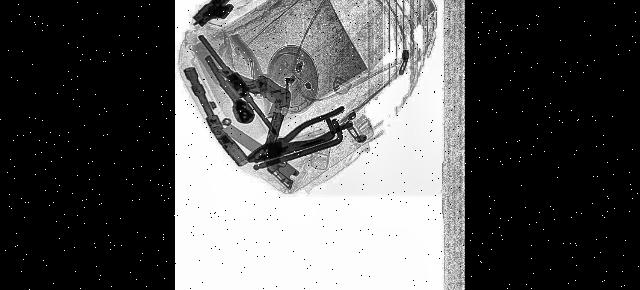Gun: (192, 0, 245, 45)
Pliers: (247, 99, 349, 181)
